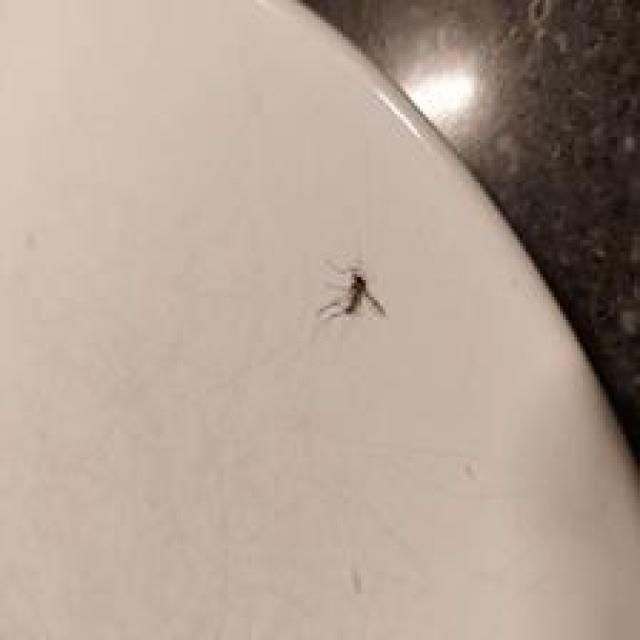Culex: (317, 266, 386, 323)
